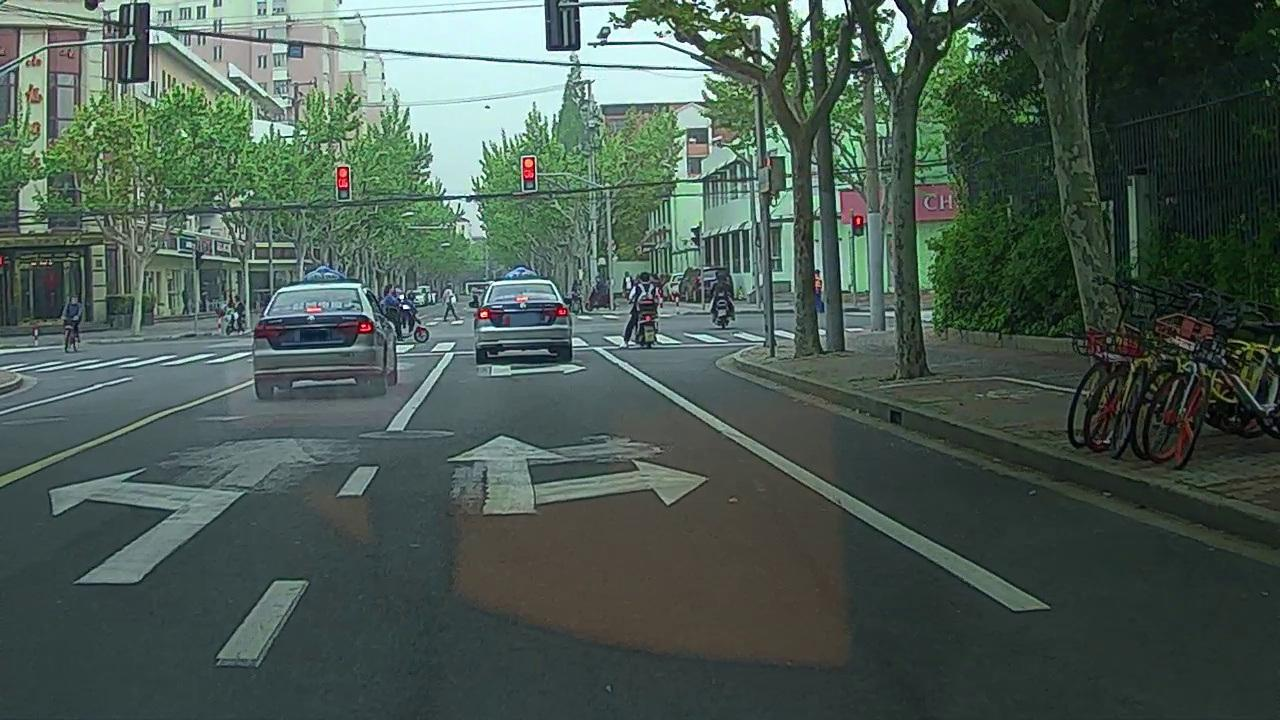traffic_light: (521, 158, 537, 190), (336, 168, 350, 200)
